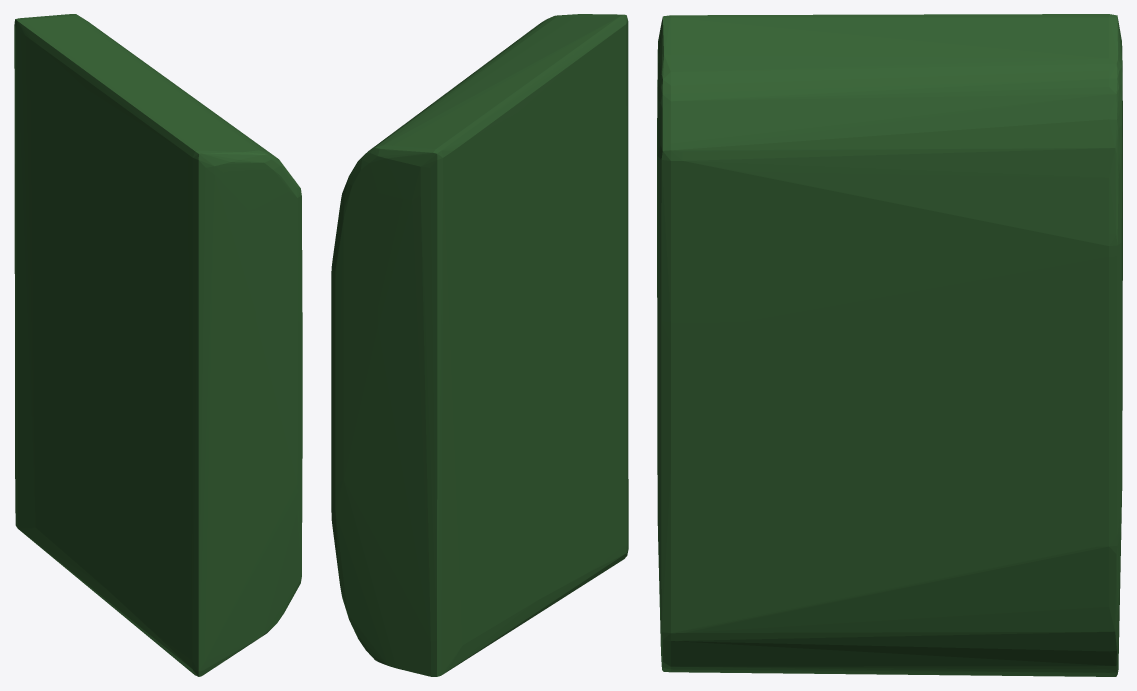
3 views of the same model, side by side, from view 1: azimuth 30°, elevation 25°; view 2: azimuth 150°, elevation 25°; view 3: azimuth 270°, elevation 25° (orthographic). The views are drawn at different scales.
Bounding box in the file's own units: 0.0482 × 0.2227 × 0.1448.
